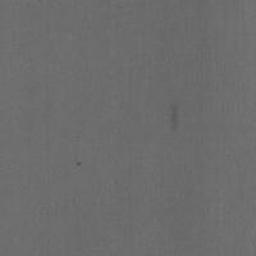Inclusion: (169, 104, 179, 131)
